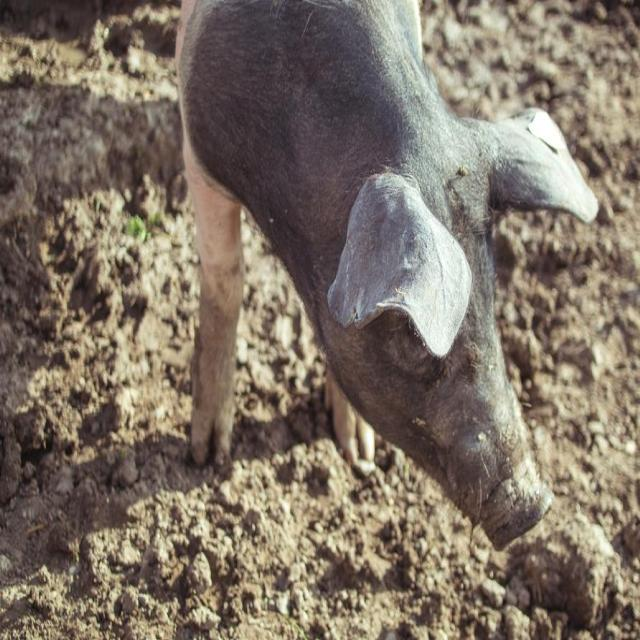pig: (176, 2, 598, 548)
